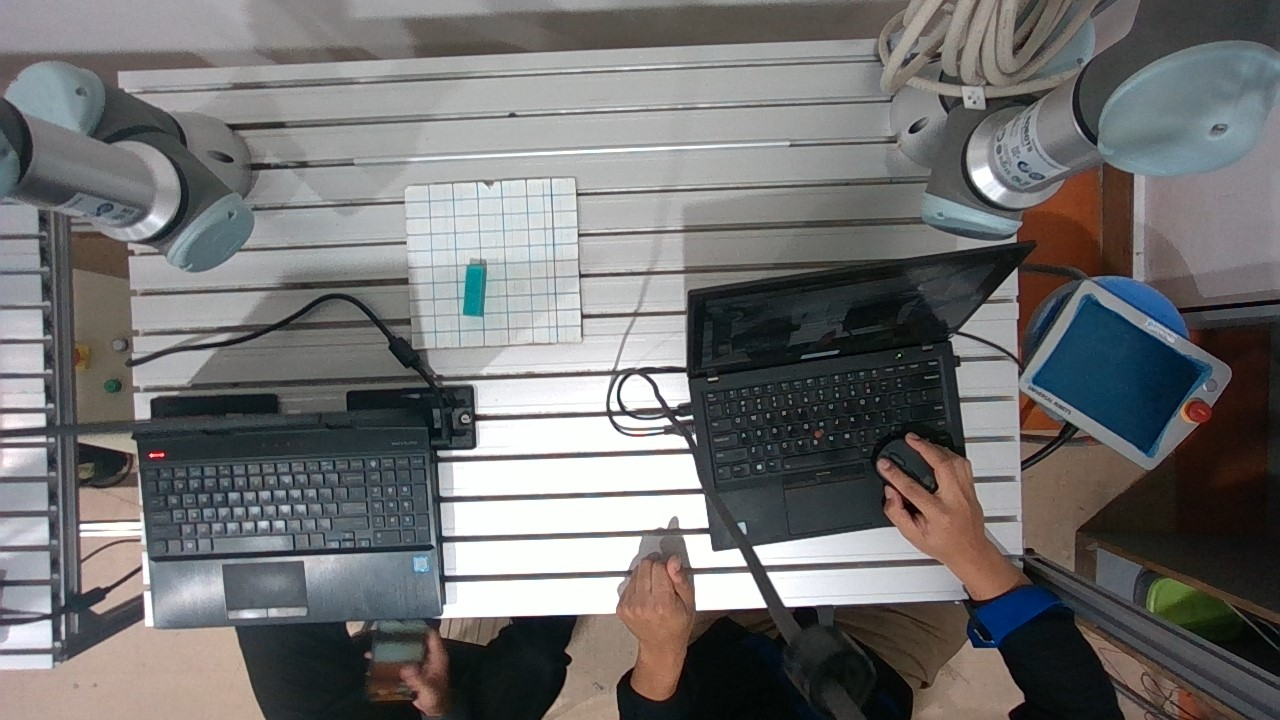box: (445, 252, 499, 335)
